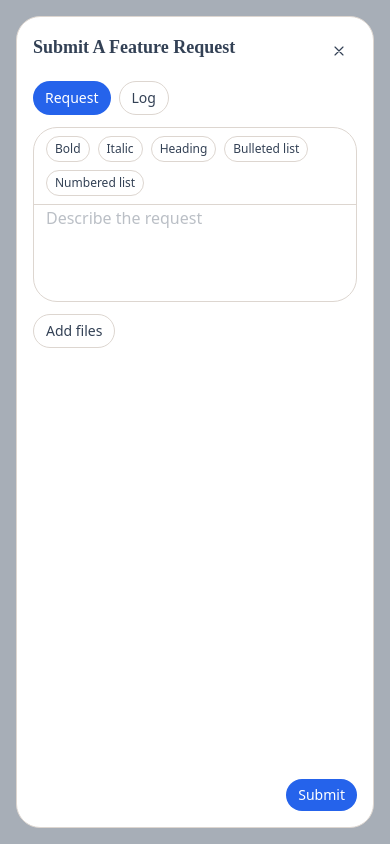
Test: FeatureRequestModal › shows the log and hides add for a submitter who cannot manage it
The image size is (390, 844).
Click the tab "Log".
click(144, 98)  # box x1=118 y1=81 x2=169 y2=115
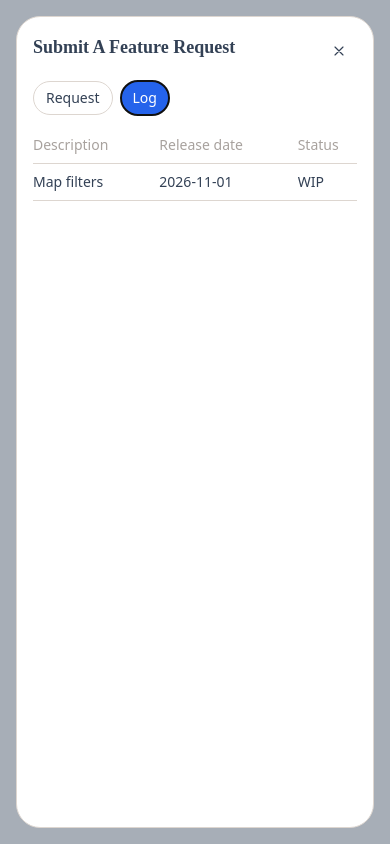
expect the text "Map filters" is shown: met, box x1=33 y1=164 x2=159 y2=200
expect the text "2026-11-01" is shown: met, box x1=159 y1=164 x2=298 y2=200
expect the text "WIP" is shown: met, box x1=298 y1=164 x2=357 y2=200
